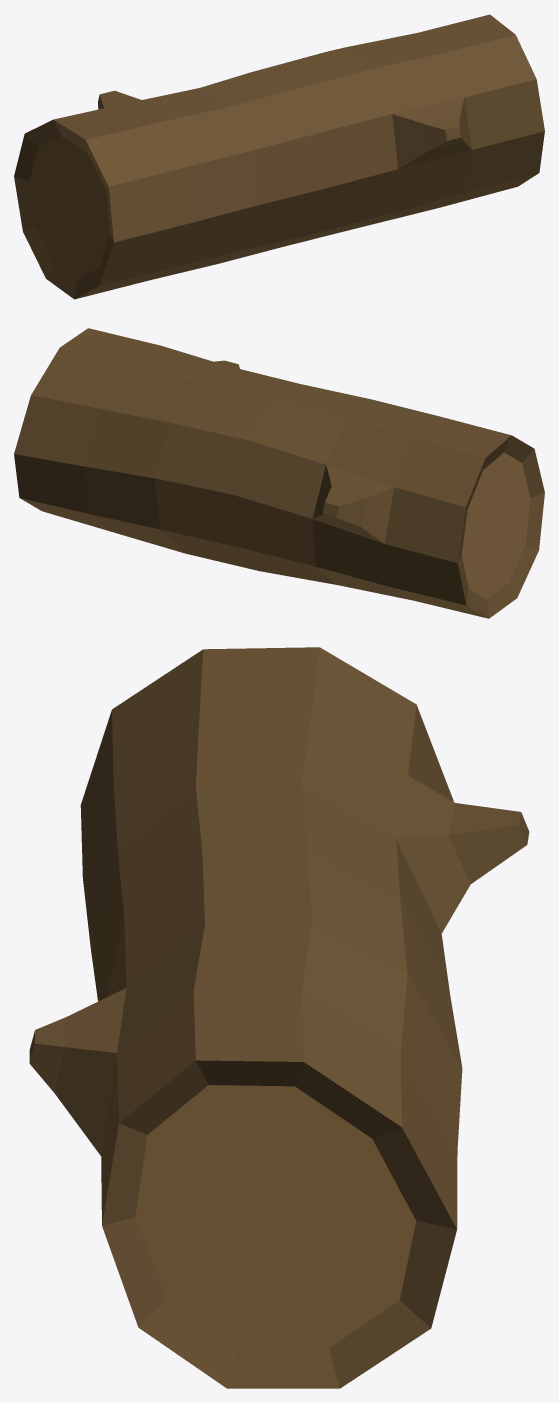
Rendered from TreeBench 001.fbx.
3 views of the same model, one above another, from view 1: azimuth 30°, elevation 25°; view 2: azimuth 150°, elevation 25°; view 3: azimuth 270°, elevation 25° (orthographic). The views are drawn at different scales.
Visible parts, largest first — view 1: TreeBench 001; view 2: TreeBench 001; view 3: TreeBench 001.
Boxes of the visible parts, bbox=[...] form: TreeBench 001: bbox=[14, 14, 544, 299]; TreeBench 001: bbox=[14, 328, 544, 618]; TreeBench 001: bbox=[29, 647, 529, 1388].
Size of the model in its own units: 234 by 84.26 by 114.
